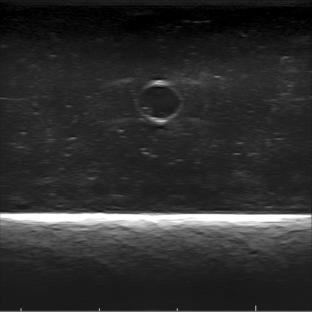vessel: (136, 79, 182, 123)
